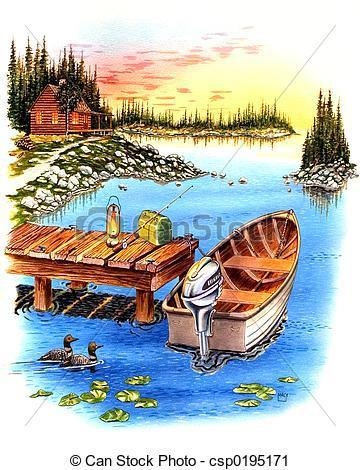bird: (60, 343, 109, 371), (36, 330, 80, 361)
boat: (170, 199, 305, 358)
